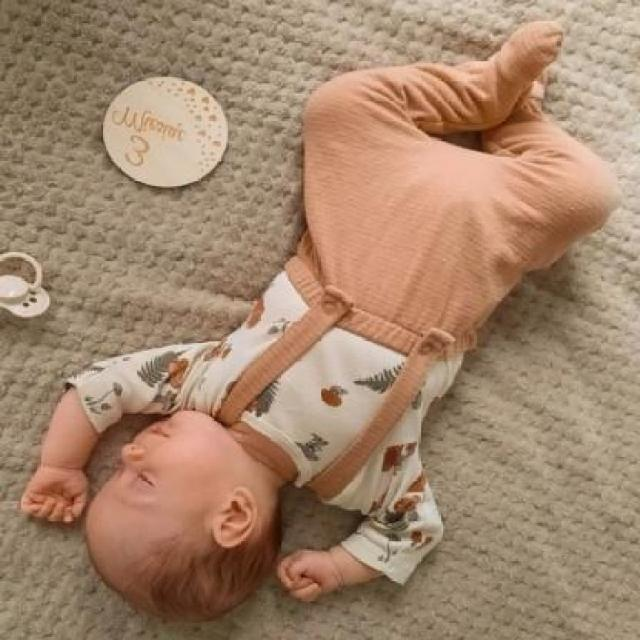baby: (16, 23, 618, 625)
